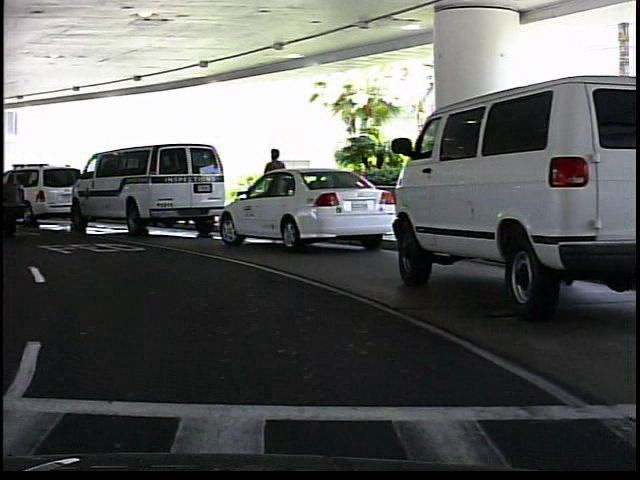person: (260, 144, 288, 228)
